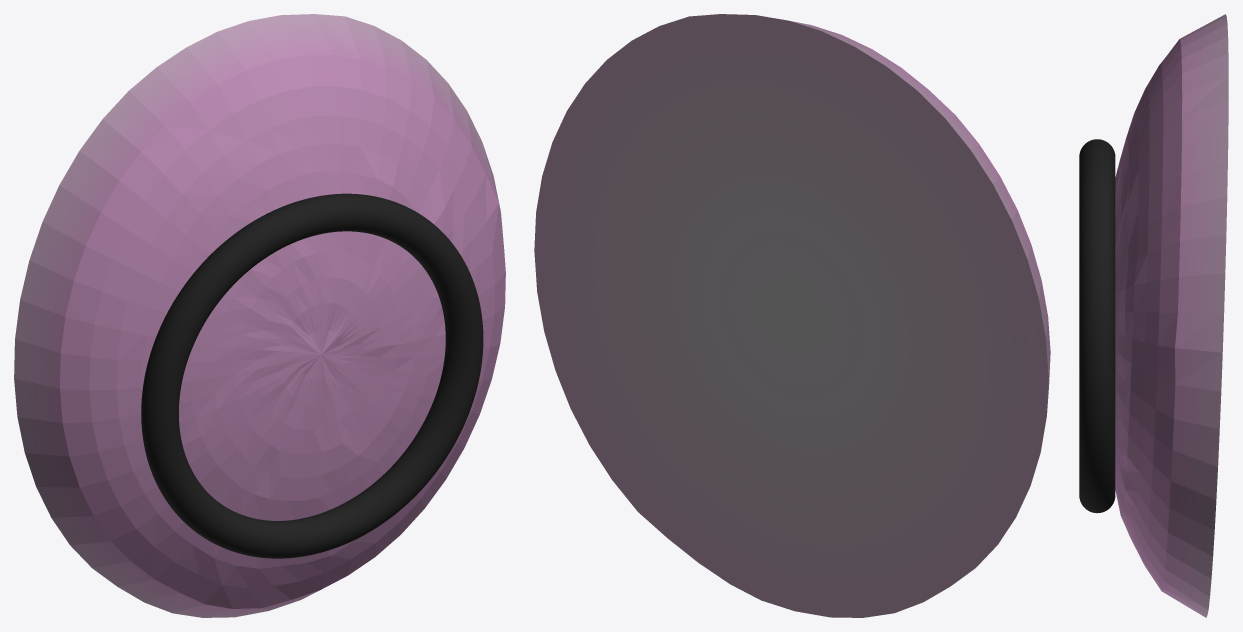
Rendered from FINAL012_with_Ring_m.glb.
3 renders of one model, left to right at view 1: azimuth 30°, elevation 25°; view 2: azimuth 150°, elevation 25°; view 3: azimuth 270°, elevation 25°, orthographic. The views are drawn at different scales.
Parts seen in each view (by area): view 1: Polyp_FINAL012, Ring_CAD; view 2: Polyp_FINAL012; view 3: Polyp_FINAL012, Ring_CAD.
Boxes of the visible parts, x1,y1,x2,y2 form: Polyp_FINAL012: (14,14,505,617); Ring_CAD: (141,193,483,558); Polyp_FINAL012: (534,14,1050,617); Polyp_FINAL012: (1115,14,1228,617); Ring_CAD: (1079,139,1115,513).
Bounding box in the file's own units: 0.0182 × 0.0205 × 0.00496.
